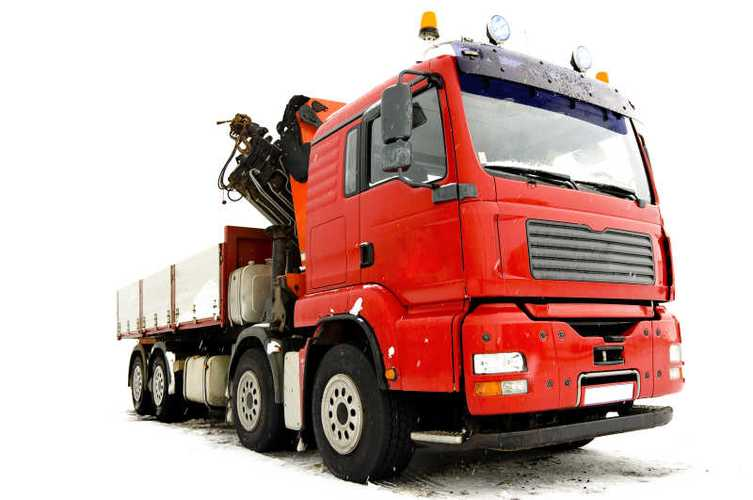卡车: (106, 29, 700, 483)
